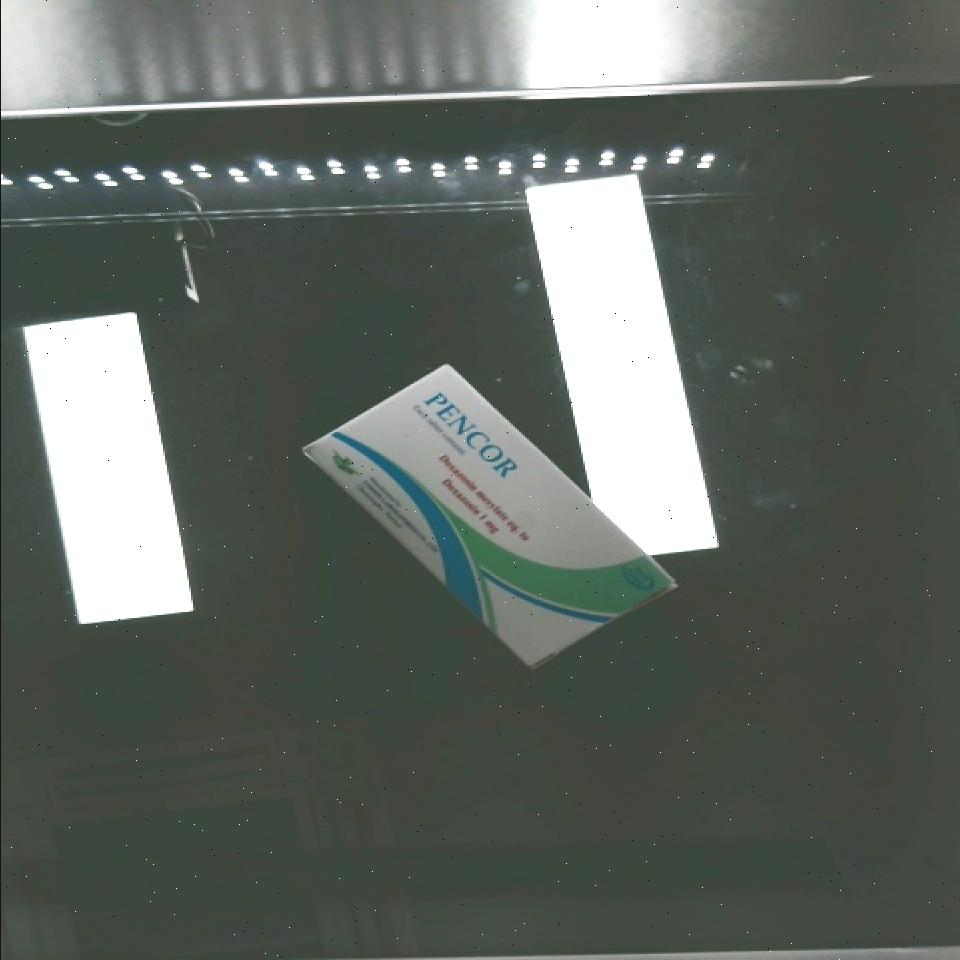medicine_box: (300, 330, 676, 707)
medicine_label_obb: (402, 361, 546, 507)
